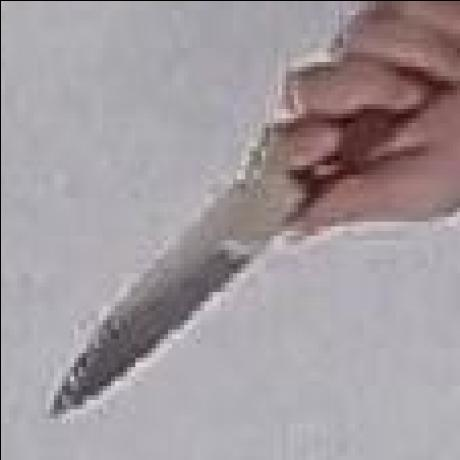1: (256, 0, 460, 249)
weapon: (50, 165, 294, 435)
